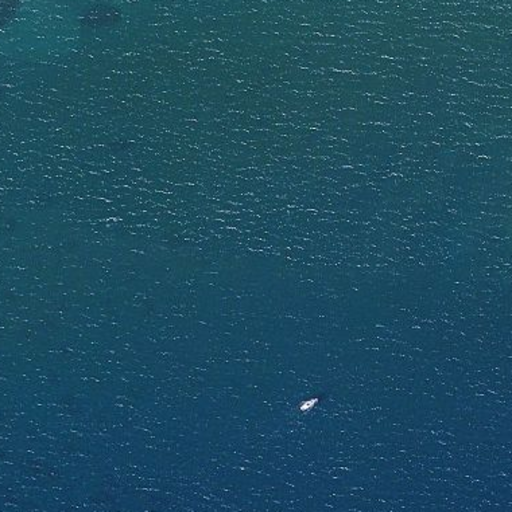ship: (297, 395, 322, 415)
